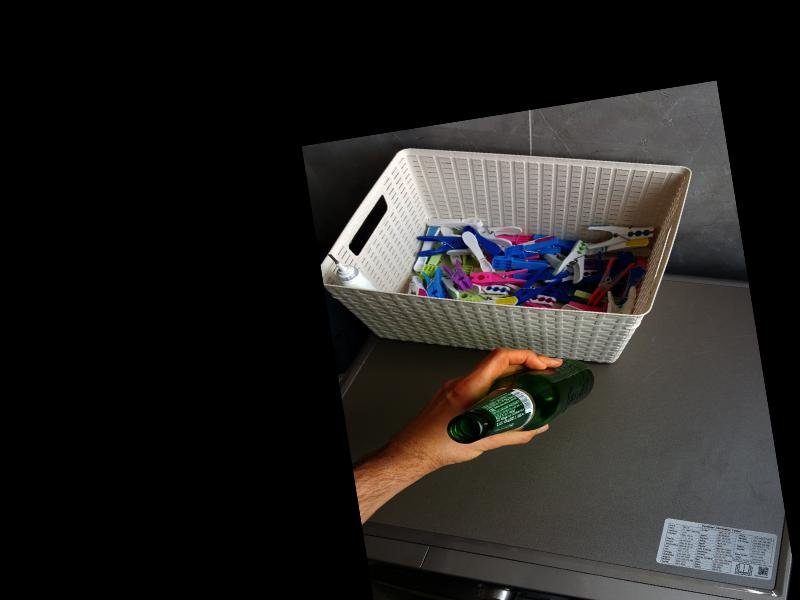Beer: (439, 352, 599, 446)
